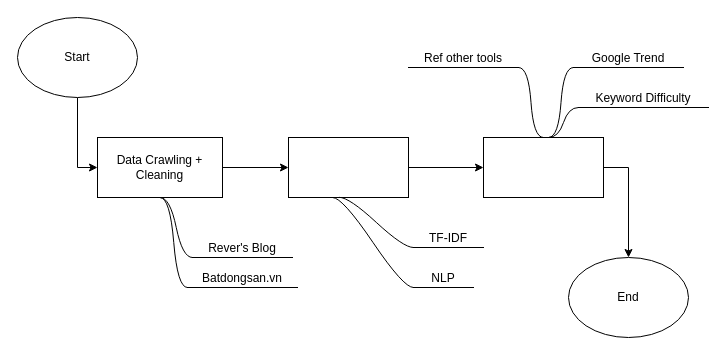
Some shapes in this 726 by 355 pixel diagram are drawn without their labels. The shapes that lost their labels are listed below. From the top down, each one's centre as x and y in pixels, then its label:
At point 348,167: "Keyword Research (one article - one bag of words)".
At point 543,167: "Keyword Evaluation".
